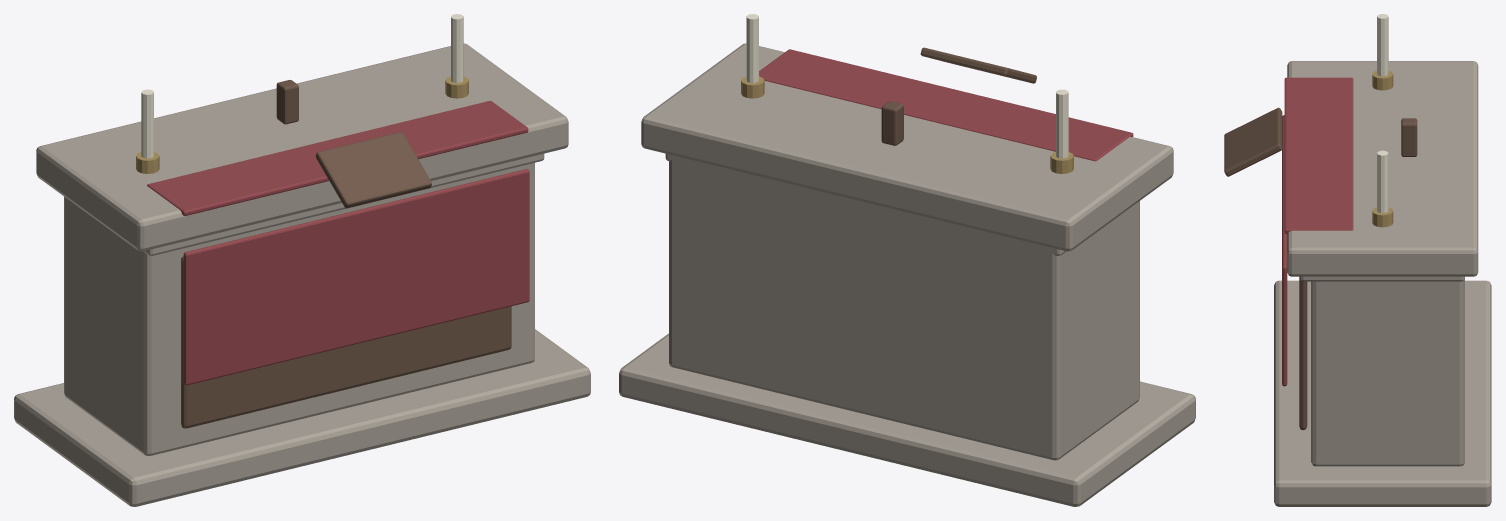
3 renders of one model, left to right at view 1: azimuth 30°, elevation 25°; view 2: azimuth 150°, elevation 25°; view 3: azimuth 270°, elevation 25°, orthographic. The views are drawn at different scales.
Parts seen in each view (by area): view 1: chapelAltar; view 2: chapelAltar; view 3: chapelAltar.
Part boxes in pixels (x1,y1,x2,y2): chapelAltar: (14,14,590,506); chapelAltar: (619,14,1195,506); chapelAltar: (1224,14,1491,506).
Size of the model in its own units: 1.82 by 1.34 by 1.01.
